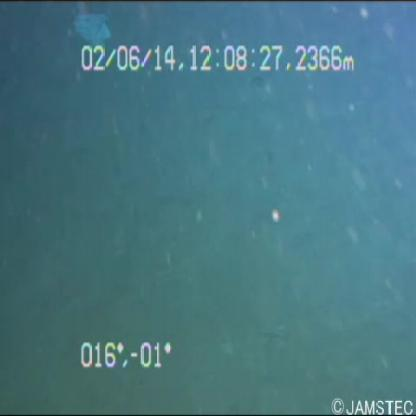Rác: (62, 7, 118, 62)
